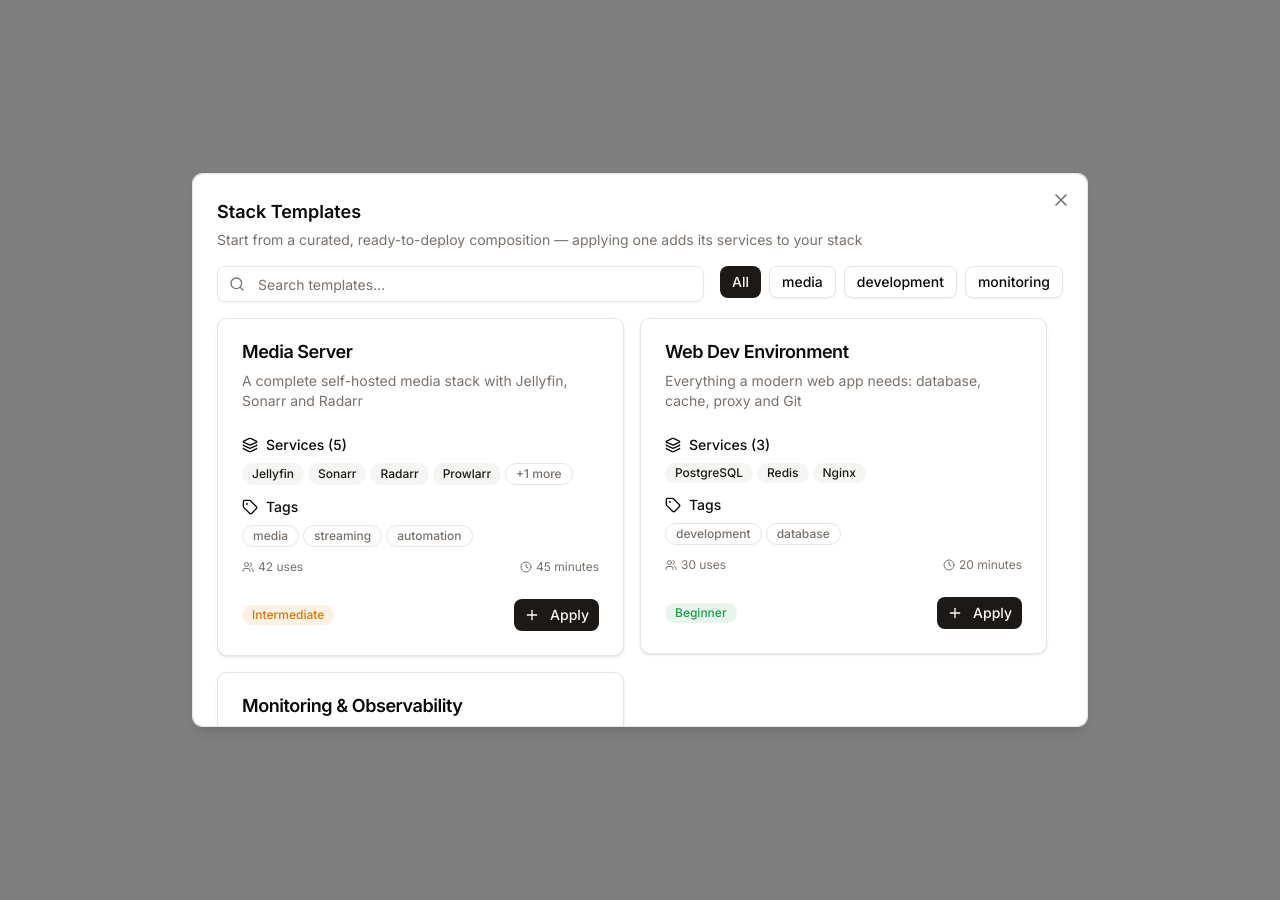
Test: StackTemplateModal › Search and Filter › filters templates by name when searching
Type "Media" into the field with placeholder "Search templates..." at point(460, 284), box [217, 266, 704, 302]
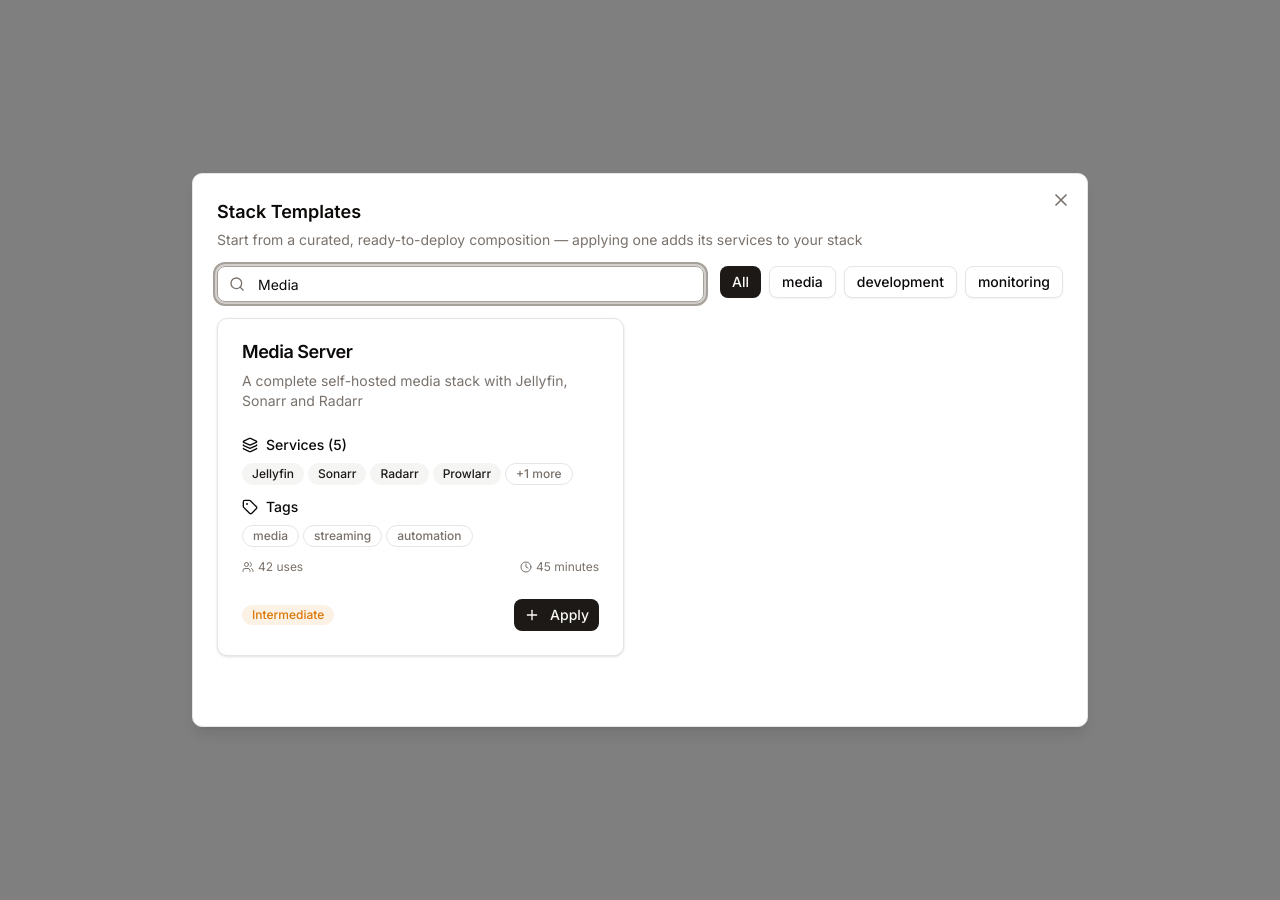
Expected: the heading "Media Server" is shown, [242, 341, 352, 362]
Result: the heading "Web Dev Environment" is gone
Result: the heading "Monitoring & Observability" is gone
